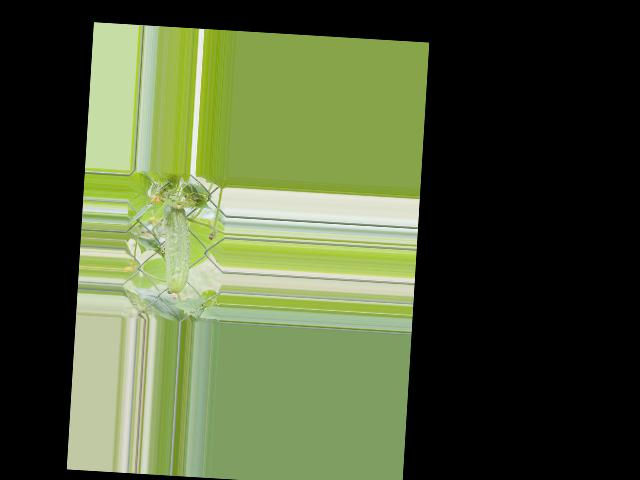cucumber: (159, 199, 193, 299)
